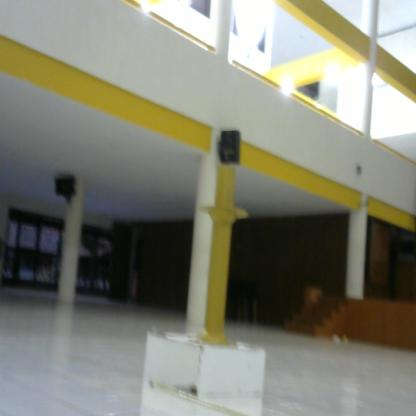pole: (192, 168, 250, 349)
